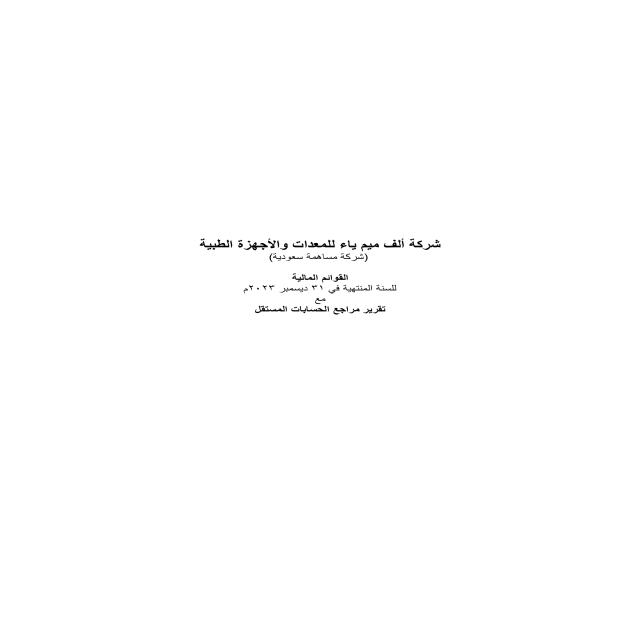other: (140, 174, 497, 362)
